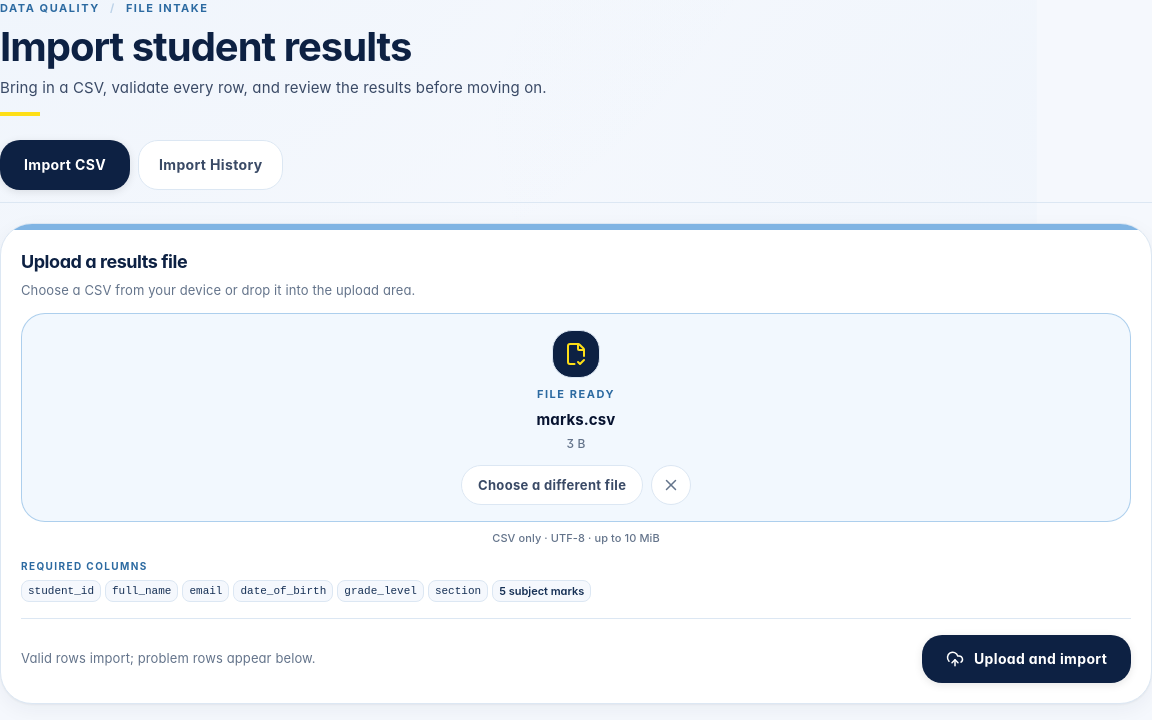
Scenario: ImportPage › saves only the completed batch id after a successful upload
Earlier steps of the test are not shown.
Click the button "Upload and import": (1026, 659) 922,635 -> 1131,683
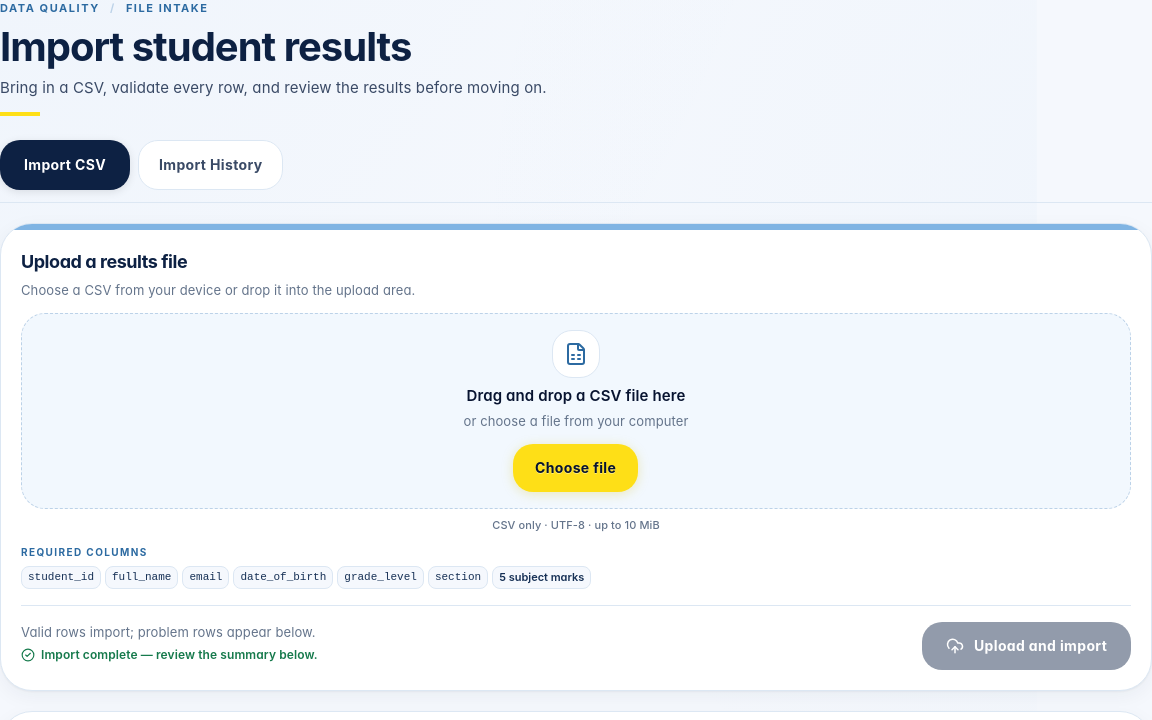
Expected: the text "Import complete — review the summary below." is shown, 21,646 -> 318,664
